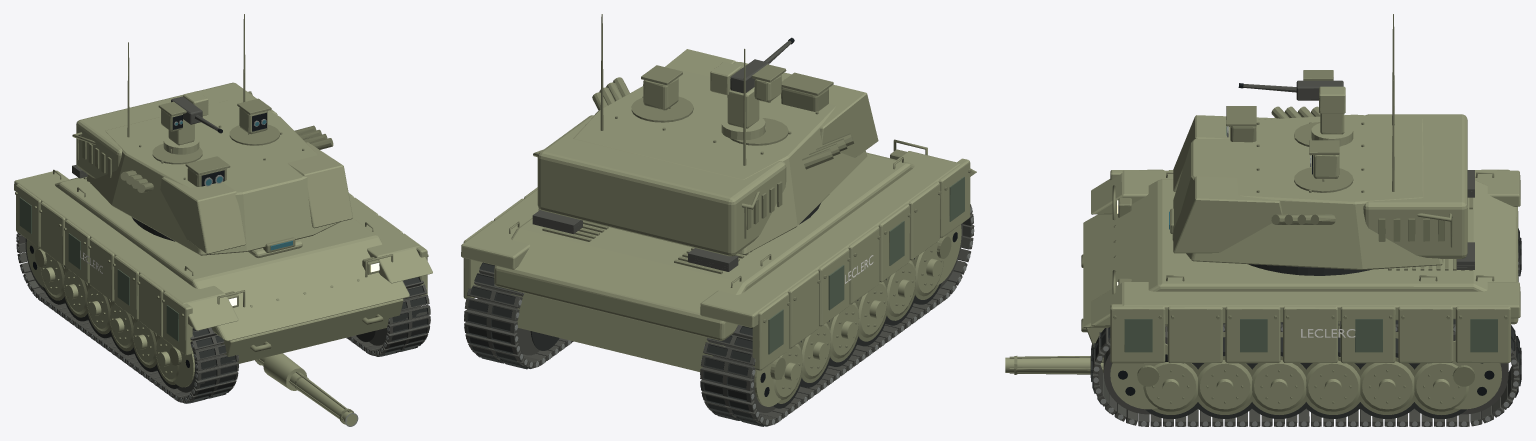
The model's file is france.glb.
The picture shows the model from 3 angles, left to right: view 1: azimuth 30°, elevation 25°; view 2: azimuth 150°, elevation 25°; view 3: azimuth 270°, elevation 25°; orthographic projection. The views are drawn at different scales.
Parts seen in each view (by area): view 1: body, turret, tracks, cannon; view 2: body, turret, tracks; view 3: body, turret, tracks, cannon.
Boxes of the visible parts, x1,y1,x2,y2 form: body: (14,164,432,363); turret: (72,14,352,255); tracks: (16,232,430,403); cannon: (255,353,358,426); body: (461,139,976,371); turret: (533,14,878,256); tracks: (464,204,974,426); body: (1081,169,1520,363); turret: (1173,14,1467,275); tracks: (1090,228,1521,426); cannon: (1005,356,1103,374).
Bounding box in the file's own units: 3.82 × 4.27 × 5.92.
